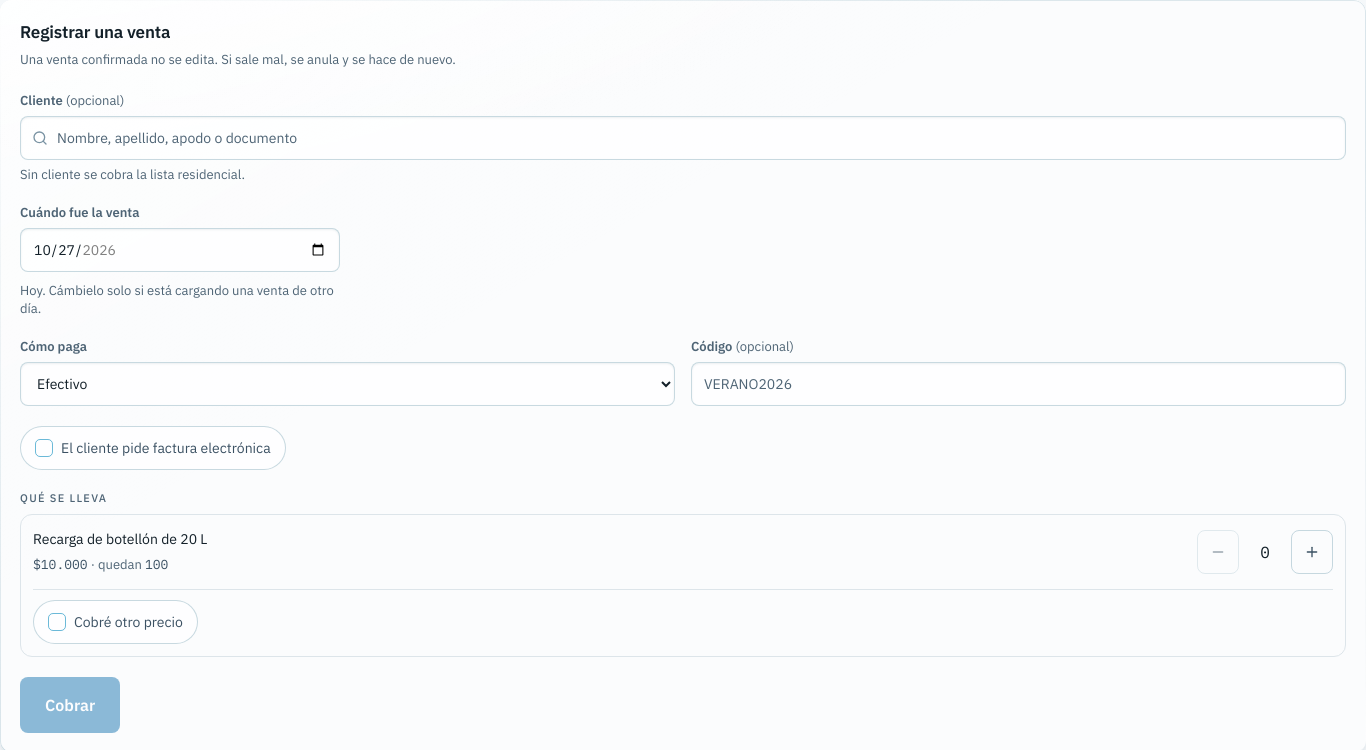
Test: la cuenta por cantidad se muestra hecha › muestra el subtotal ya multiplicado dentro de la card
Step 1. Click the button named "Agregar uno de Recarga" → (1312, 552), box [1291, 530, 1333, 574]
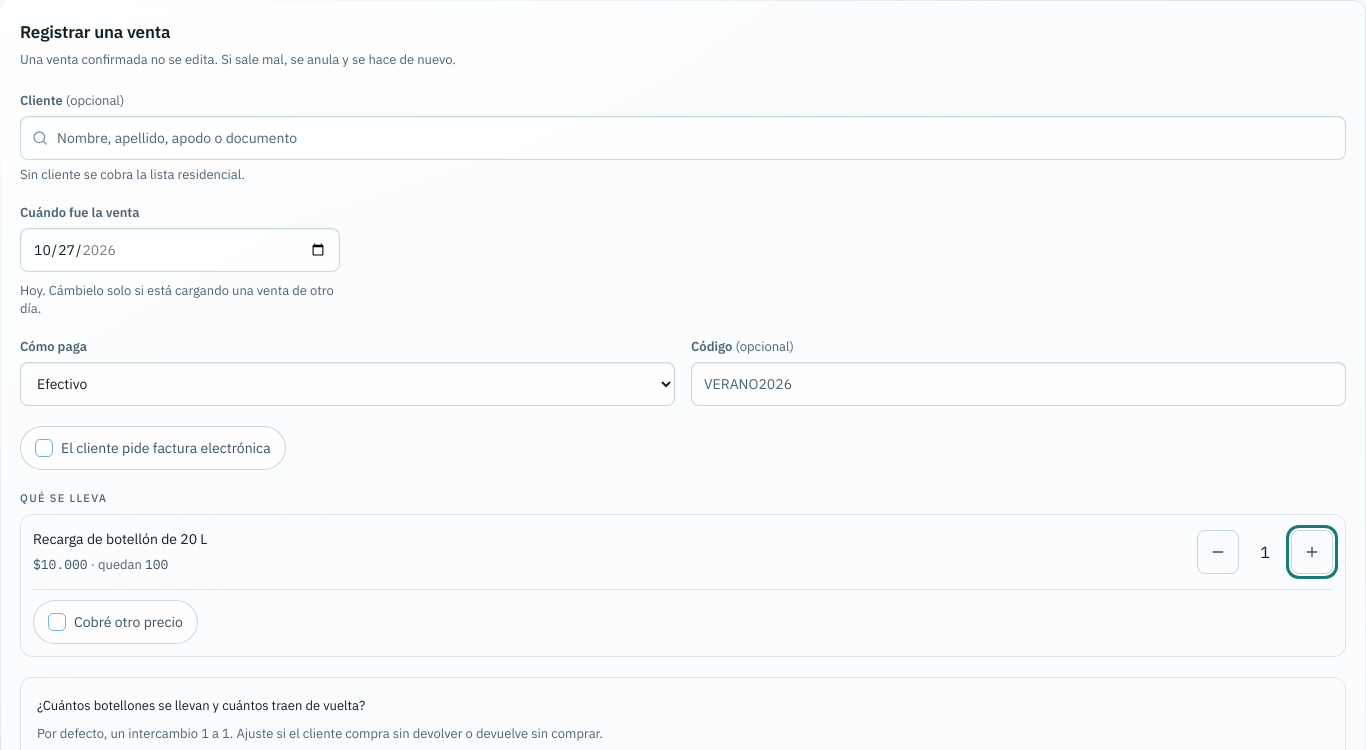
Step 2. Click the button named "Agregar uno de Recarga" → (1312, 552), box [1291, 530, 1333, 574]
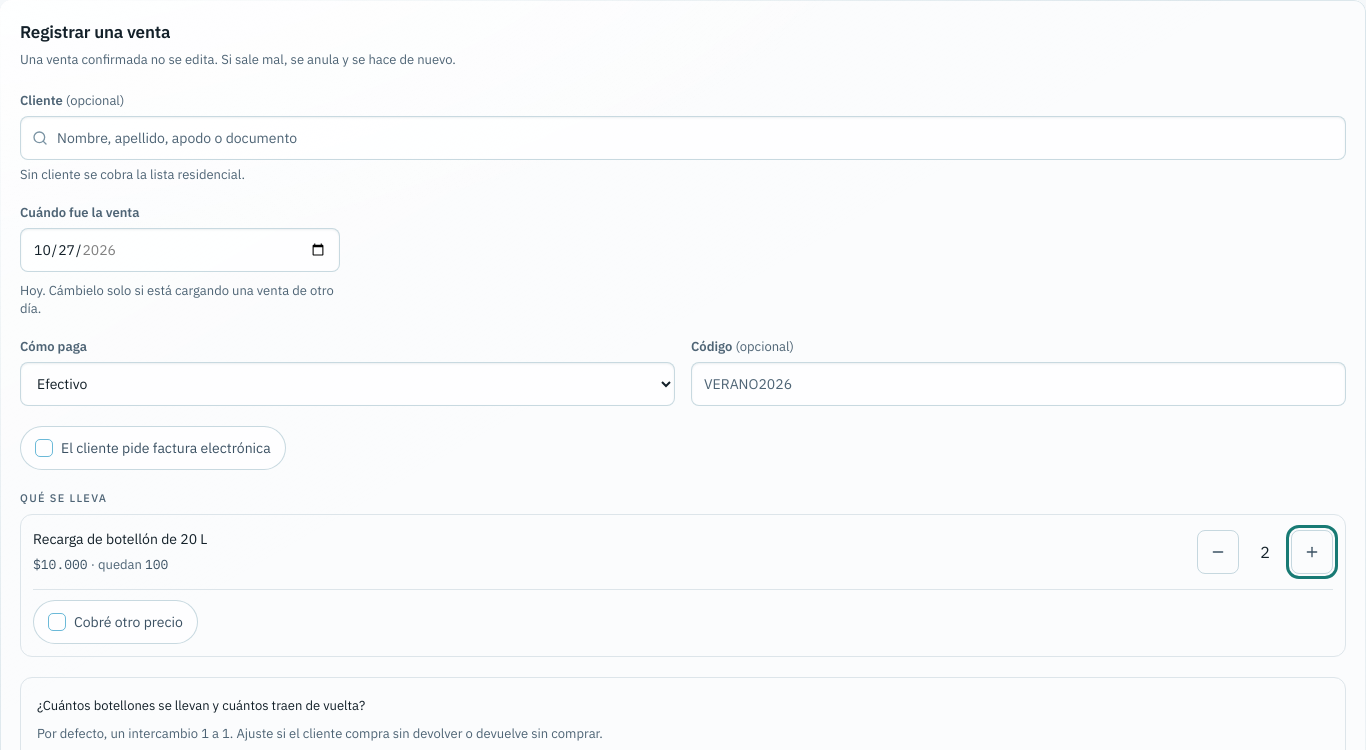
Step 3. Click the button named "Agregar uno de Recarga" → (1312, 552), box [1291, 530, 1333, 574]
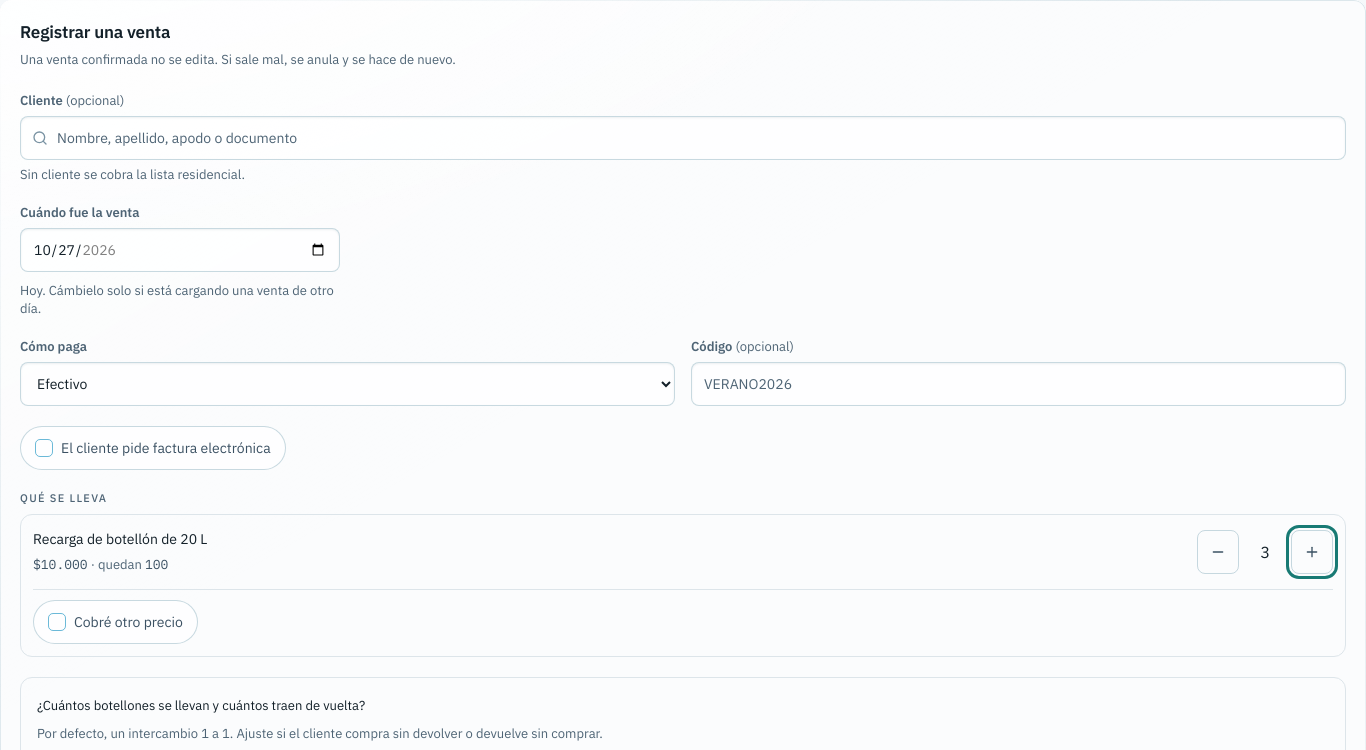
Step 4. Click the checkbox labelled "Cobré otro precio" → (115, 622), box [33, 600, 198, 644]
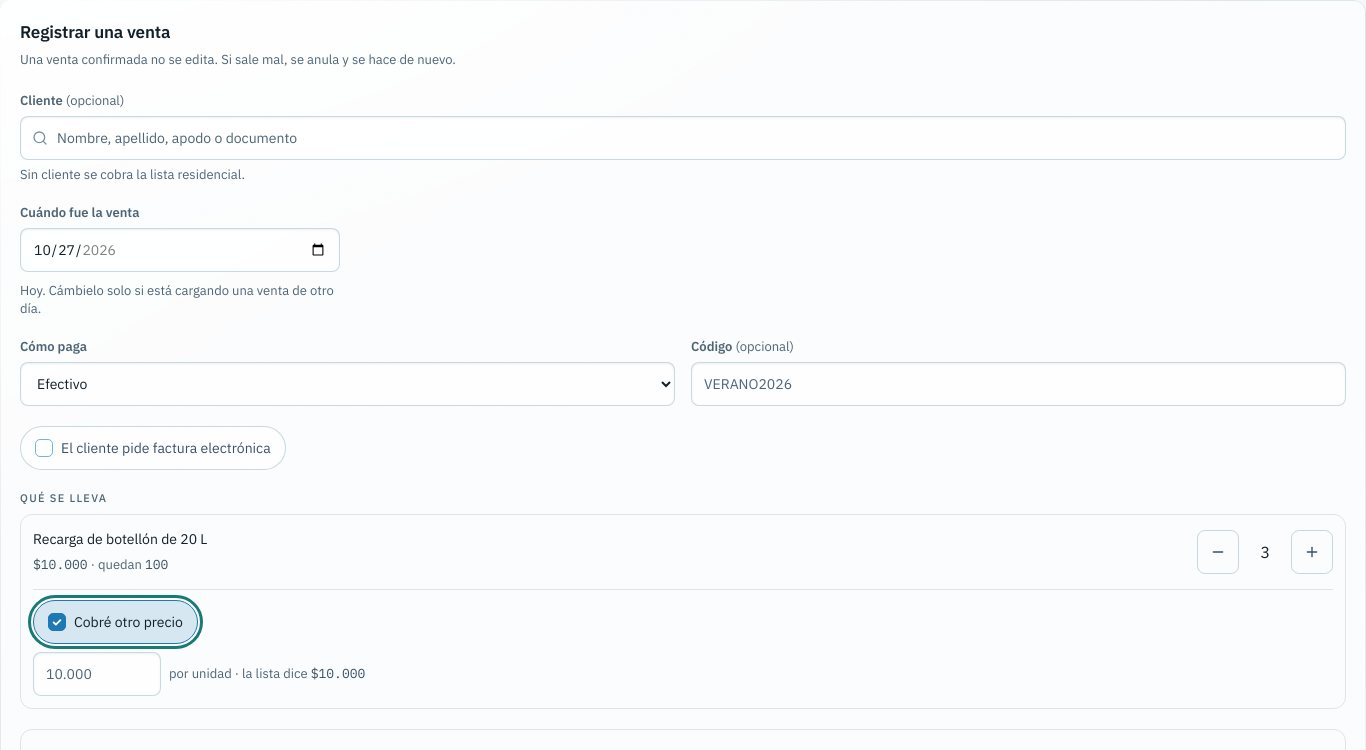
Step 5. Type "3800" into the field named "Precio por unidad de Recarga" → (97, 674), box [33, 652, 161, 696]
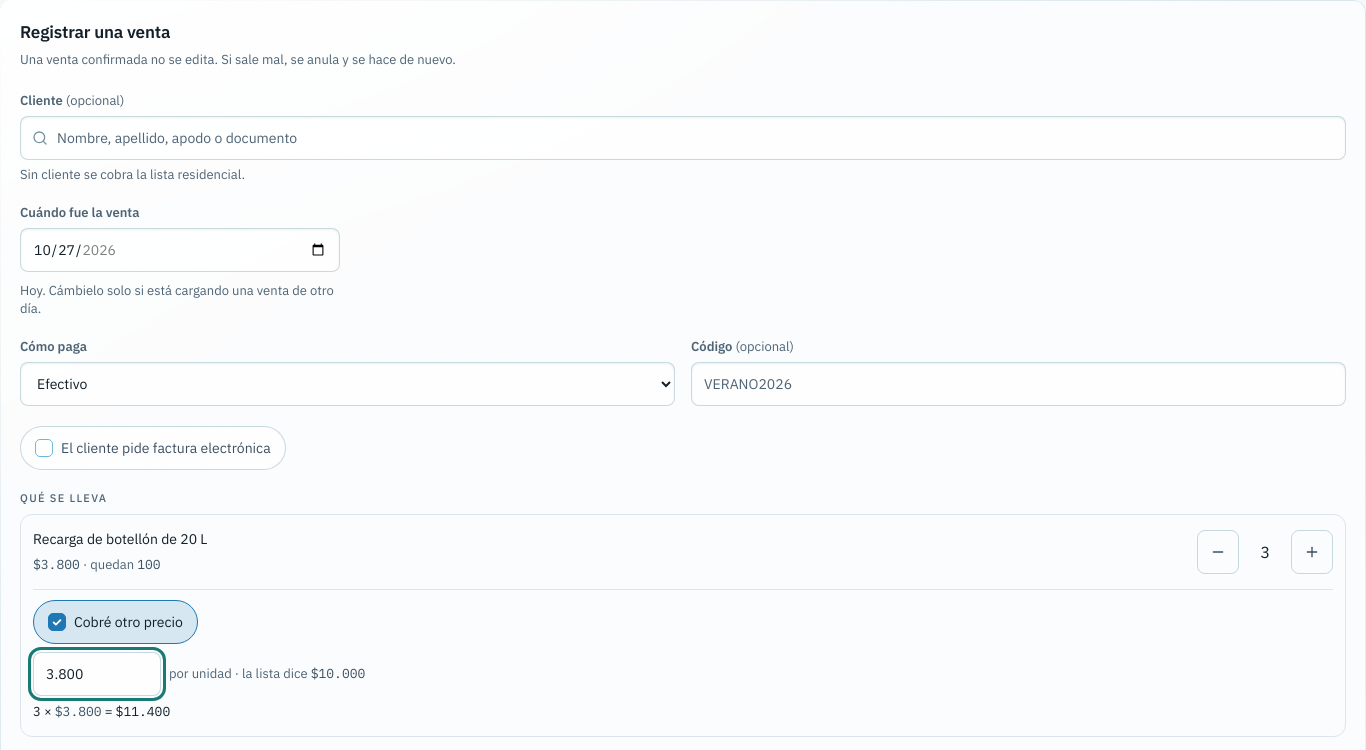
Result: the text "3" is shown at [1260, 542, 1270, 562]
Result: the text "$11.400" is shown at [116, 703, 170, 720]
